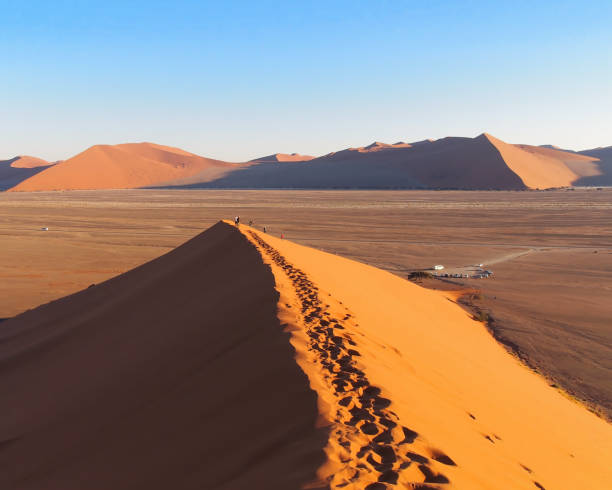human_footprint: (259, 243, 435, 489)
